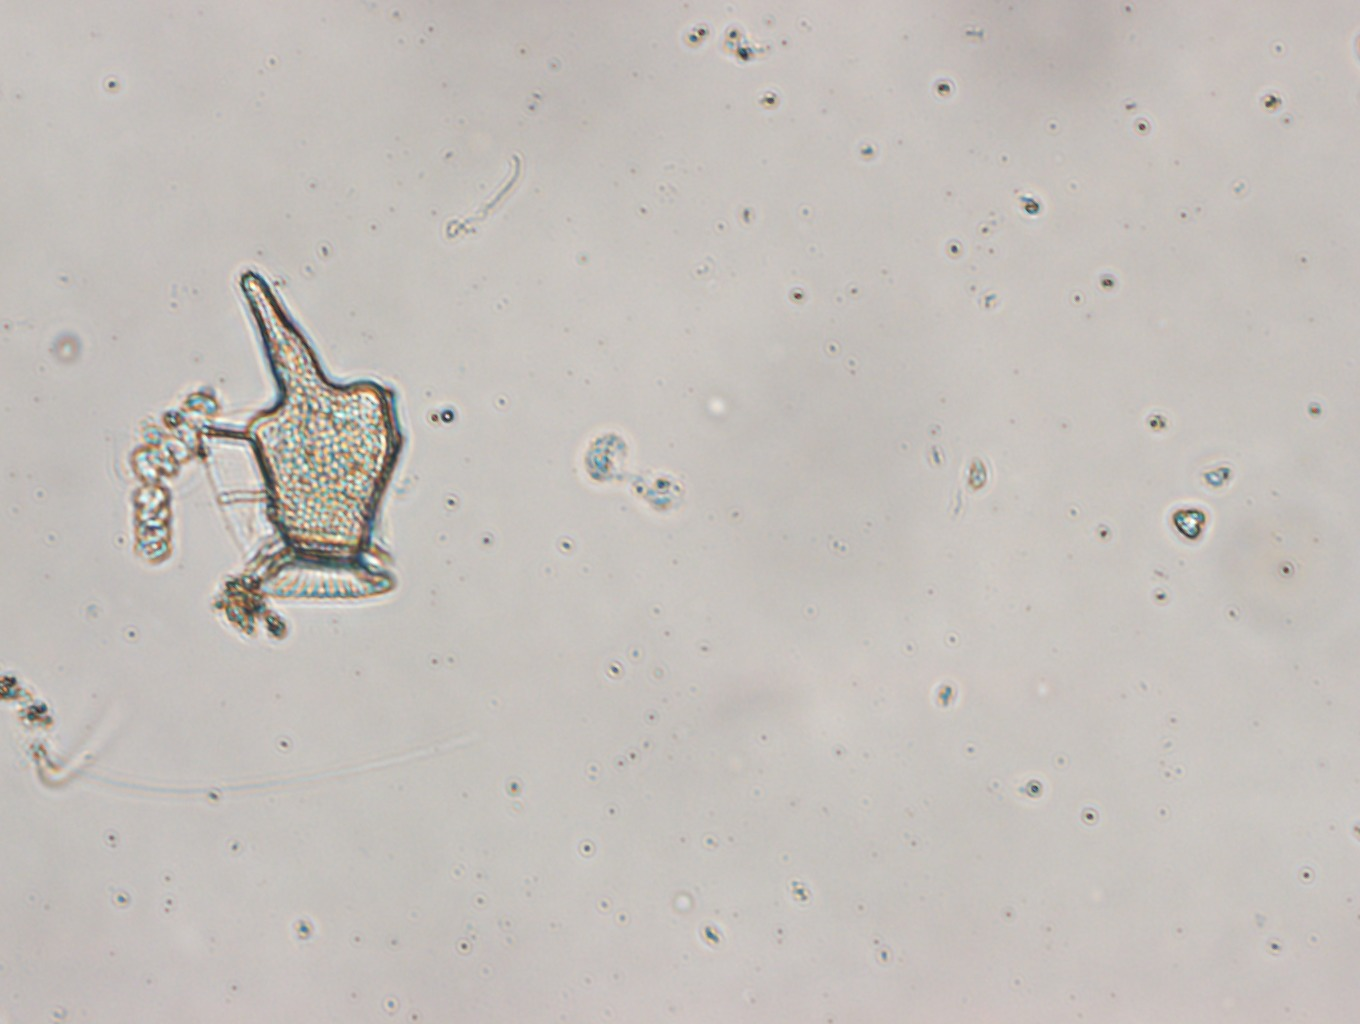dinophysis caudata: (207, 266, 420, 601)
